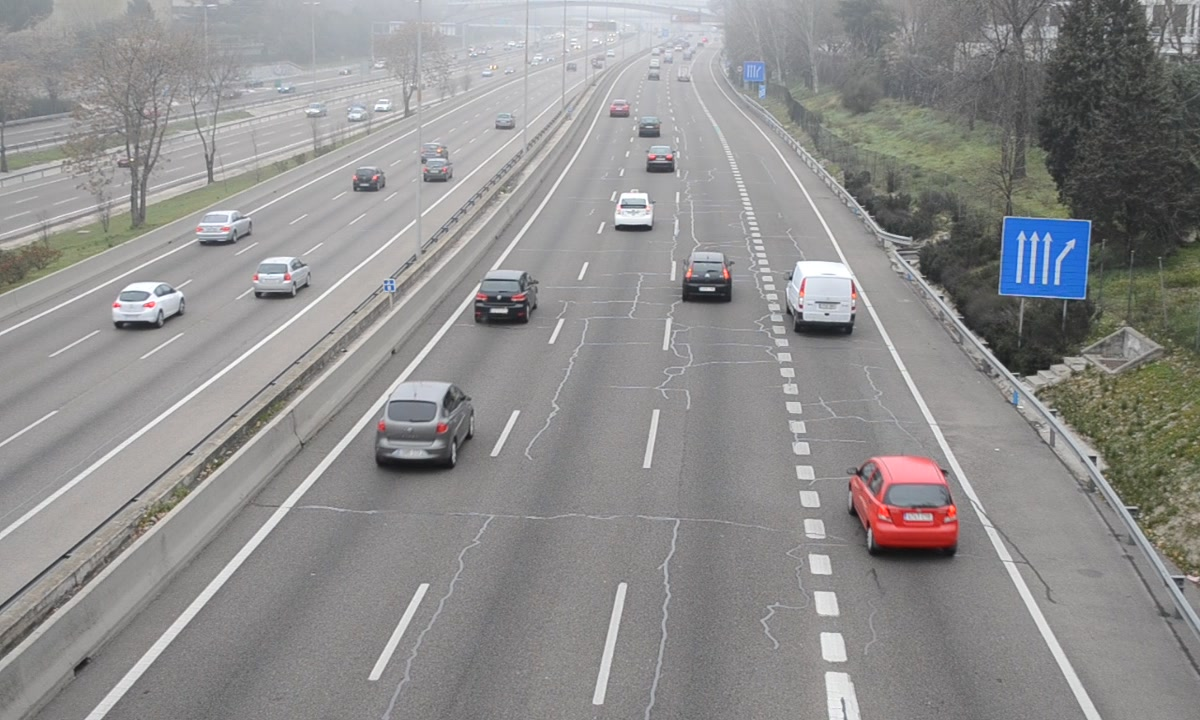car: (851, 457, 960, 551), (378, 383, 473, 467), (473, 271, 539, 323), (681, 251, 731, 299), (613, 191, 653, 229), (644, 144, 676, 174)
van: (790, 260, 857, 330)
